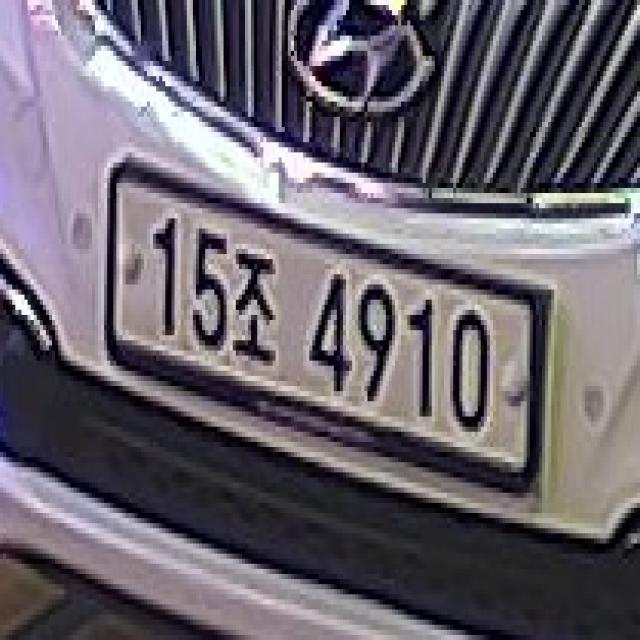0: (444, 295, 493, 447)
1: (144, 203, 187, 366), (401, 284, 444, 432)
4: (306, 254, 355, 406)
5: (187, 203, 230, 371)
9: (355, 269, 401, 417)
jo: (232, 223, 278, 381)
license_plate: (104, 147, 545, 523)
